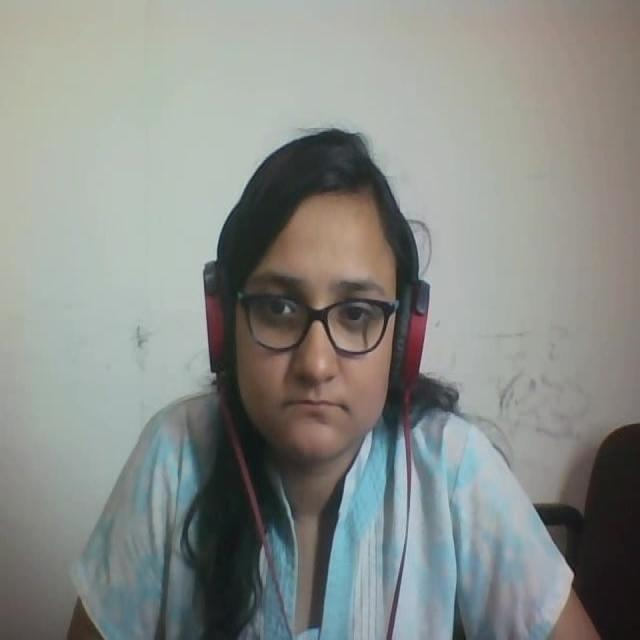Engaged: (196, 109, 438, 462)
